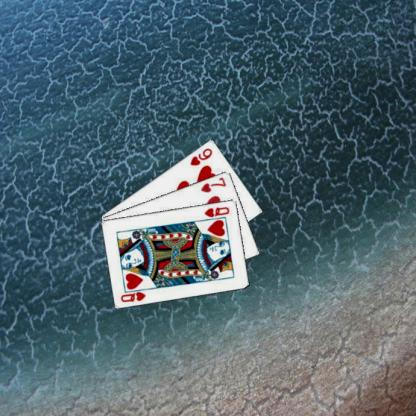7H: (198, 174, 228, 194)
9H: (188, 146, 214, 166)
QH: (118, 285, 150, 303), (202, 204, 231, 218)
